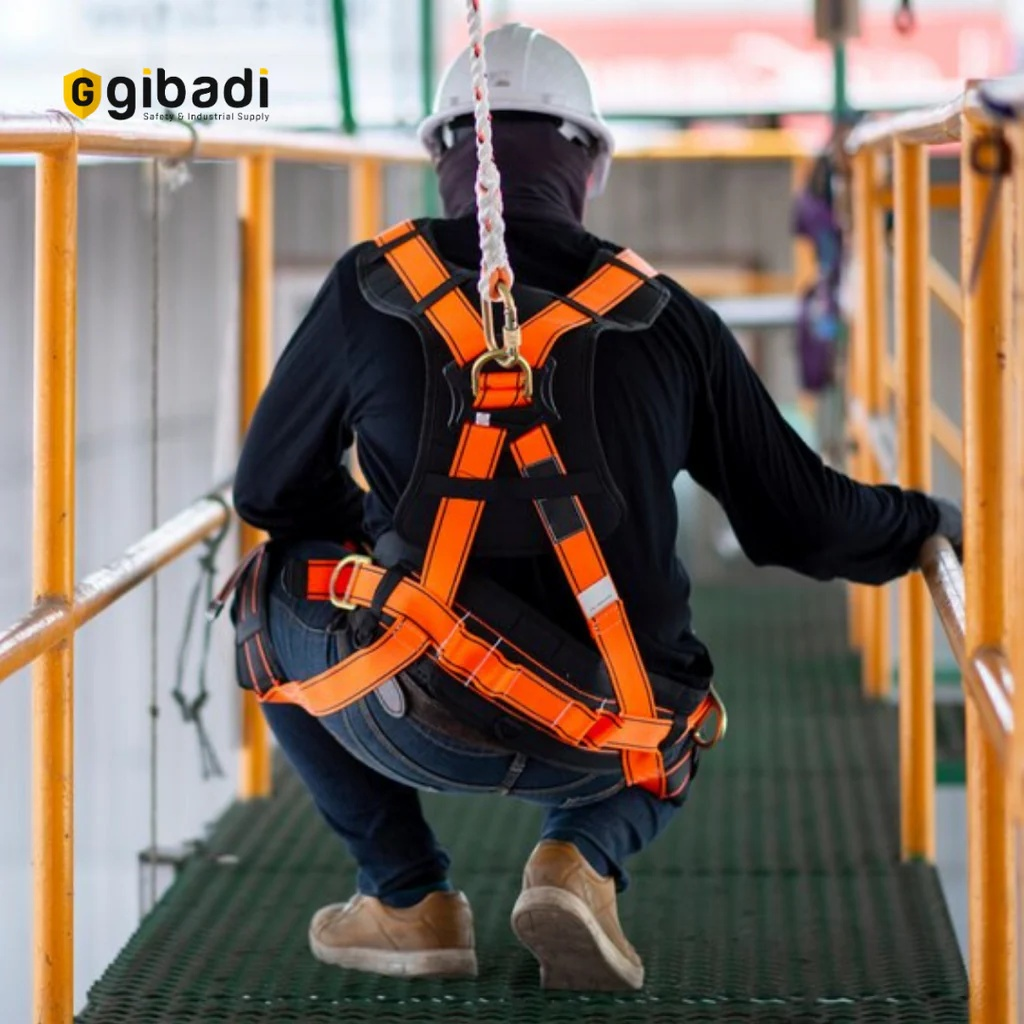Helmet: (416, 27, 611, 155)
No_SafetyShoes: (508, 834, 650, 996), (310, 892, 484, 986)
Person: (277, 18, 733, 1005)
Safety_Harness: (248, 230, 715, 786)
